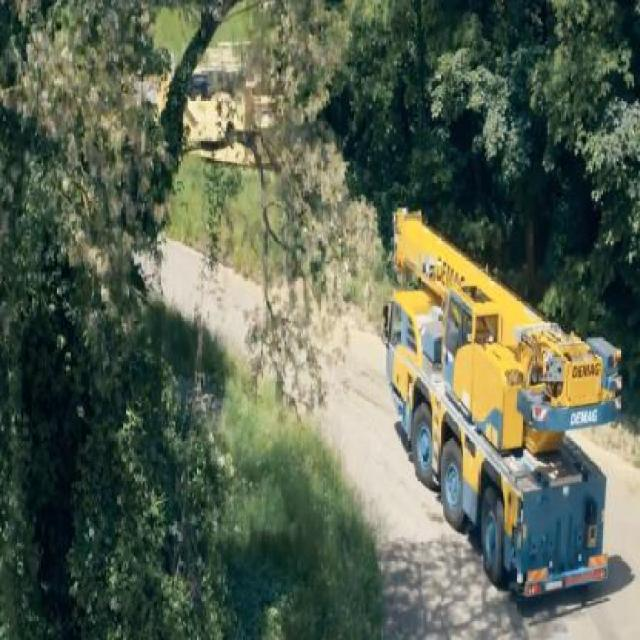Mobile Crane: (384, 211, 621, 598)
